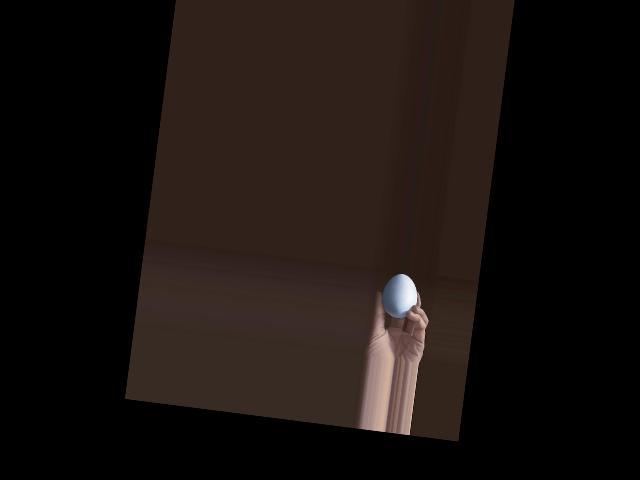egg: (380, 271, 420, 319)
